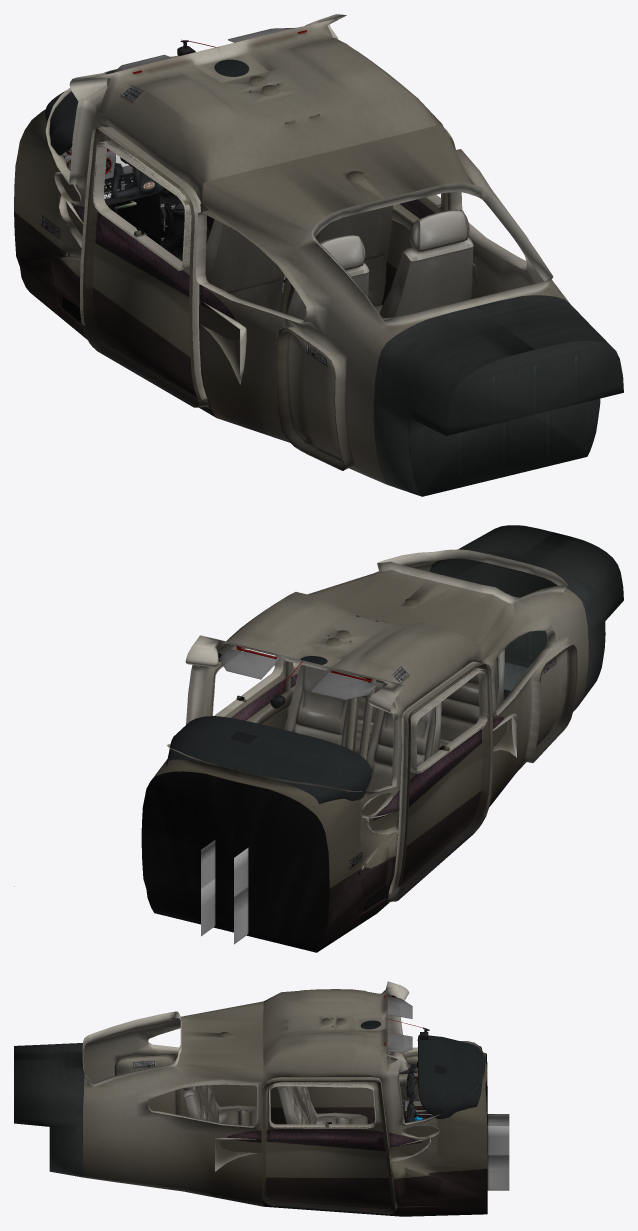
3 renders of one model, top to bottom at view 1: azimuth 30°, elevation 25°; view 2: azimuth 150°, elevation 25°; view 3: azimuth 270°, elevation 25°, orthographic. The views are drawn at different scales.
Visible parts, largest first — view 1: static-material-1, static-material-6, static-material-0, static-material-4; view 2: static-material-1, static-material-6, static-material-0, static-material-8; view 3: static-material-1, static-material-6, static-material-0, static-material-8, static-material-4.
Part boxes in pixels (bbox=[...]): static-material-1: bbox=[14, 14, 623, 496]; static-material-6: bbox=[205, 205, 473, 320]; static-material-0: bbox=[62, 150, 184, 261]; static-material-4: bbox=[111, 160, 210, 244]; static-material-1: bbox=[141, 525, 623, 952]; static-material-6: bbox=[284, 647, 505, 791]; static-material-0: bbox=[201, 839, 248, 944]; static-material-8: bbox=[219, 648, 376, 699]; static-material-1: bbox=[14, 981, 487, 1216]; static-material-6: bbox=[183, 1085, 367, 1125]; static-material-0: bbox=[414, 1112, 509, 1190]; static-material-8: bbox=[387, 996, 412, 1053]; static-material-4: bbox=[406, 1064, 424, 1122].
Size of what is drawn, in the model's own units: 1.43 by 1.31 by 4.3.
Materials: 57 (46 with a texture image).
